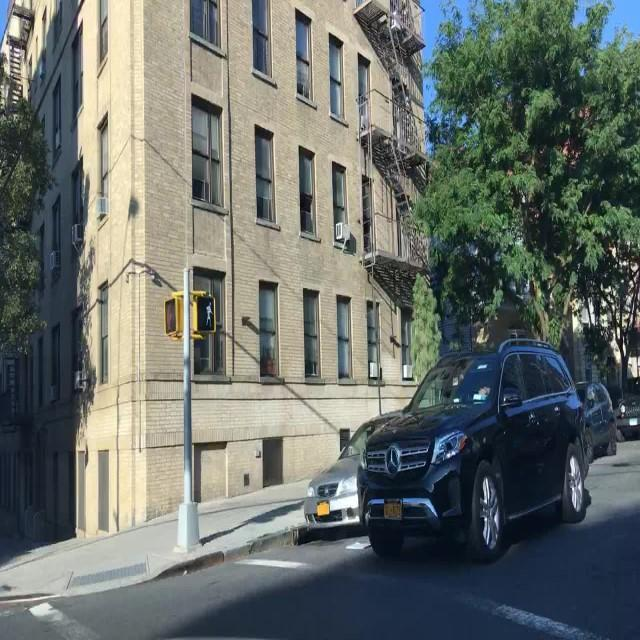normal: (340, 330, 602, 574)
